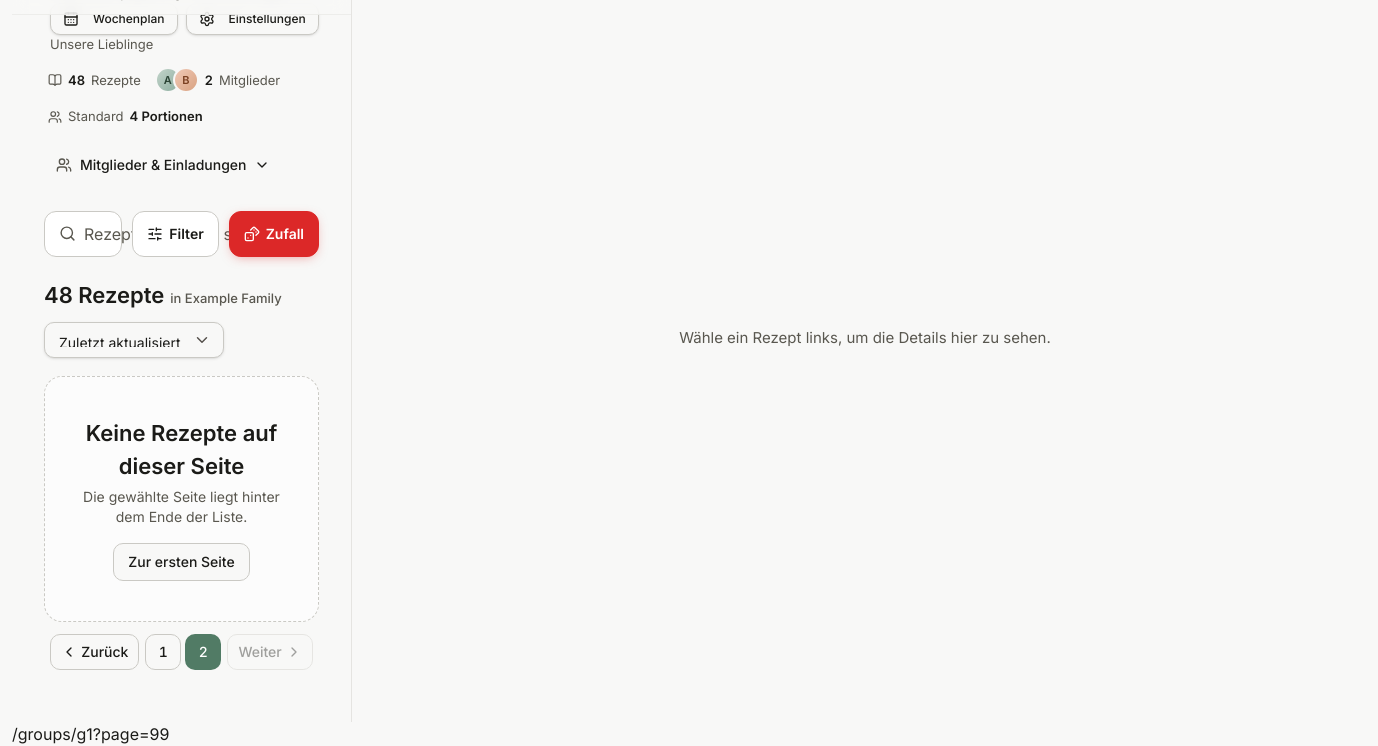
Test: <GroupDetailPage /> › deep-link ?page=99 past the end shows an empty-state with a "Zur ersten Seite" link (PAGE-1)
The width and height of the screenshot is (1378, 746).
(page scrolled)
Check: the text "Keine Rezepte auf dieser Seite" is shown, box [69, 417, 294, 483]
Clicking it navigates to a URL without a page param.
Click the link "Zur ersten Seite" at (182, 562), box [113, 543, 250, 581]
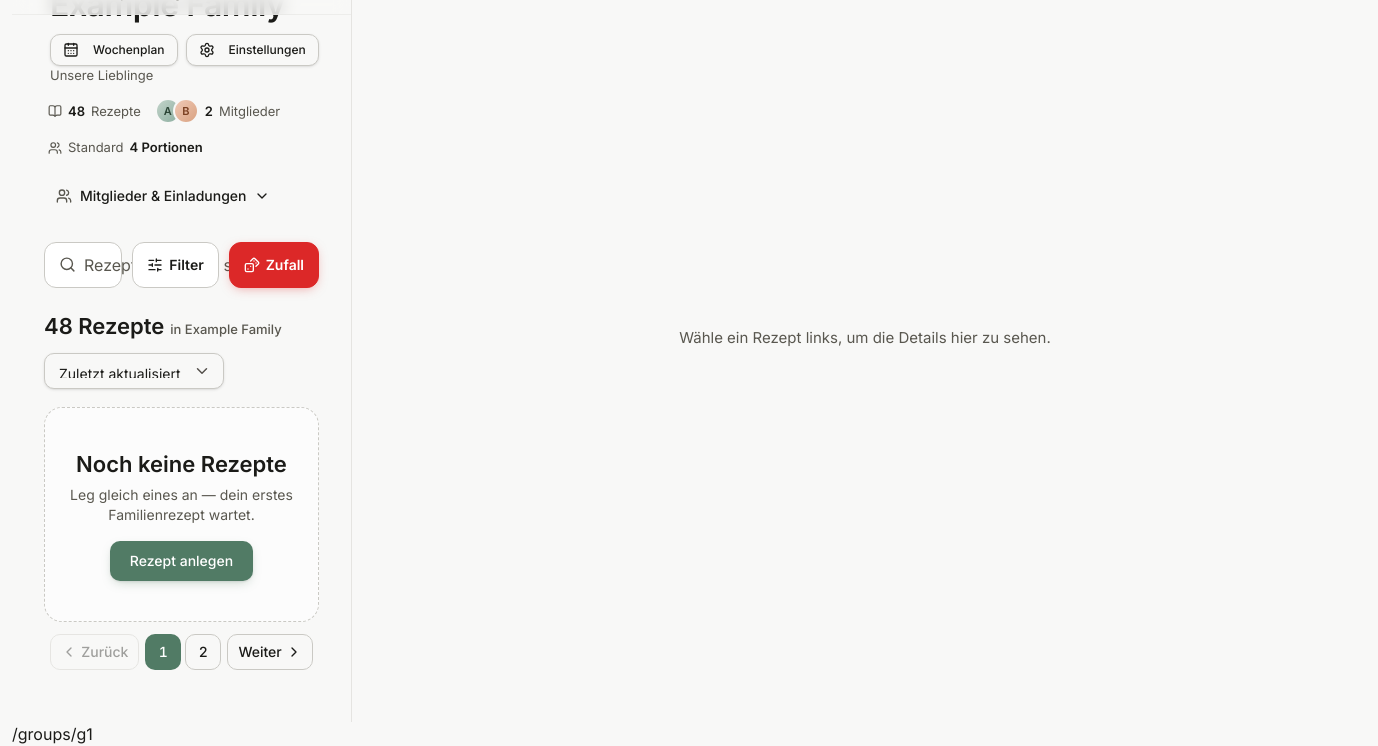
Check: the text with test id "location-probe" no longer shows "page=99"
